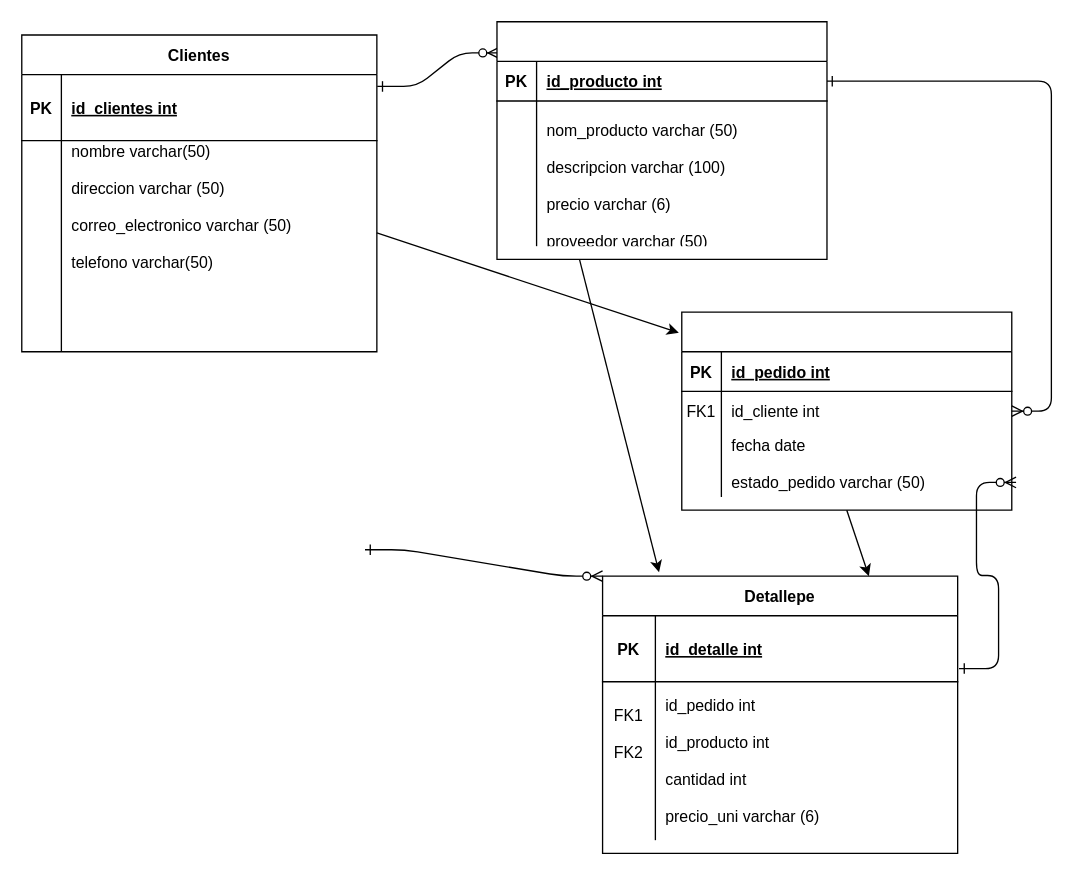
Some shapes in this 1073 by 875 pixel diagram are drawn without their labels. The box of each missing label's shape, as (x1, y1, x2, y2) in pixels:
Pedidos: (680, 311, 1012, 510)
Productos: (496, 20, 827, 259)
